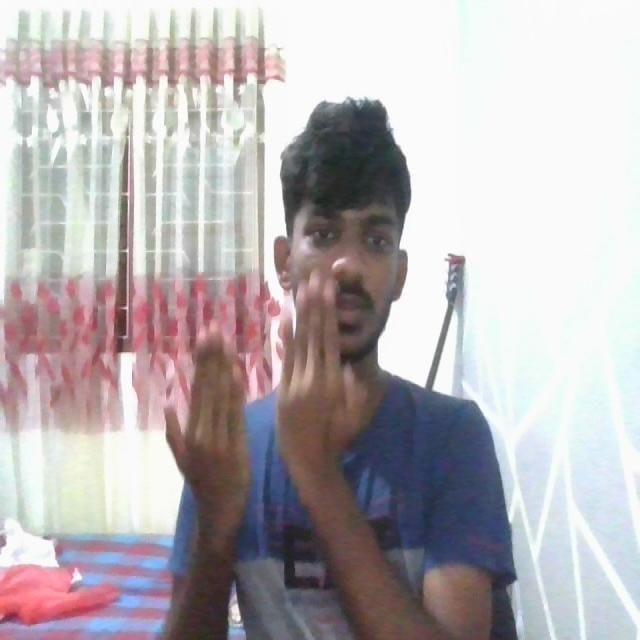ThankYou: (151, 268, 517, 640)
